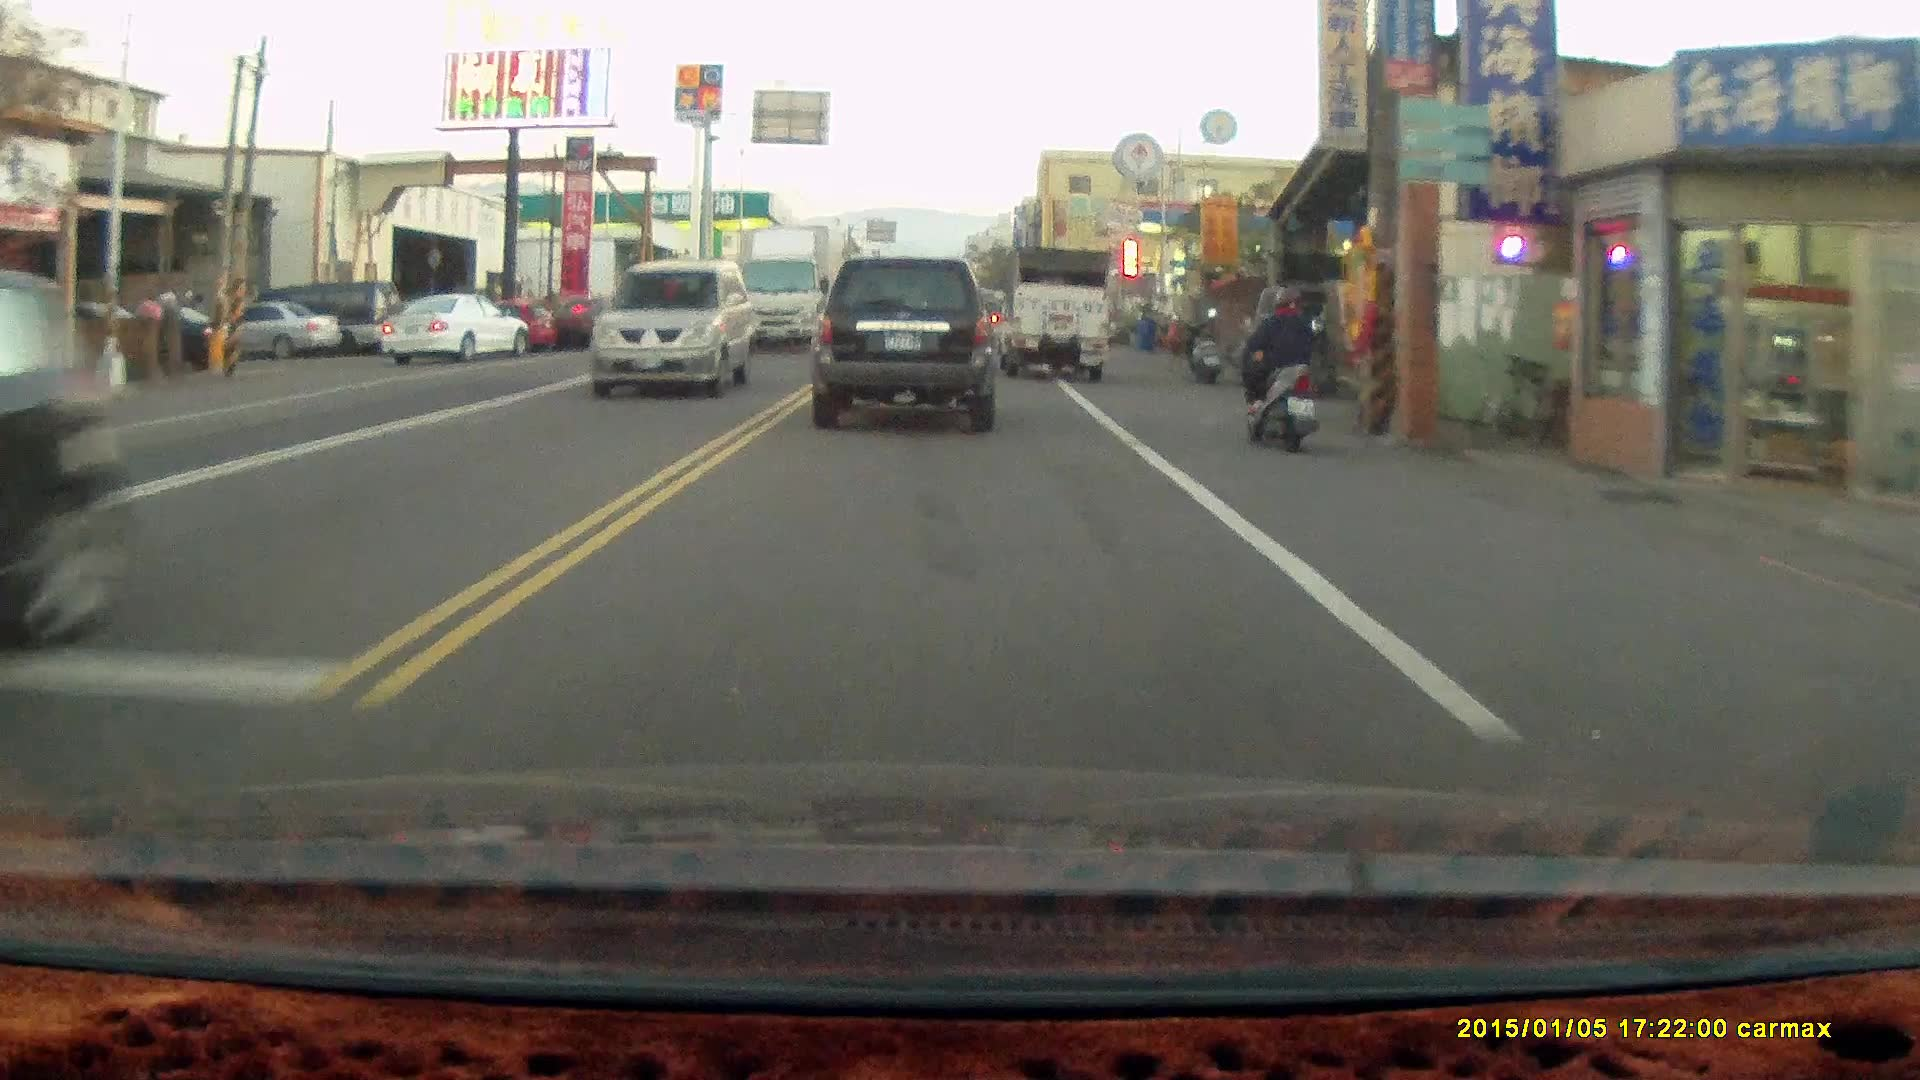rider: (1227, 287, 1321, 456)
vehicle: (1, 265, 134, 657), (808, 254, 999, 431), (589, 261, 754, 399), (994, 243, 1110, 380), (742, 222, 839, 352), (379, 296, 531, 363), (224, 304, 346, 361)
